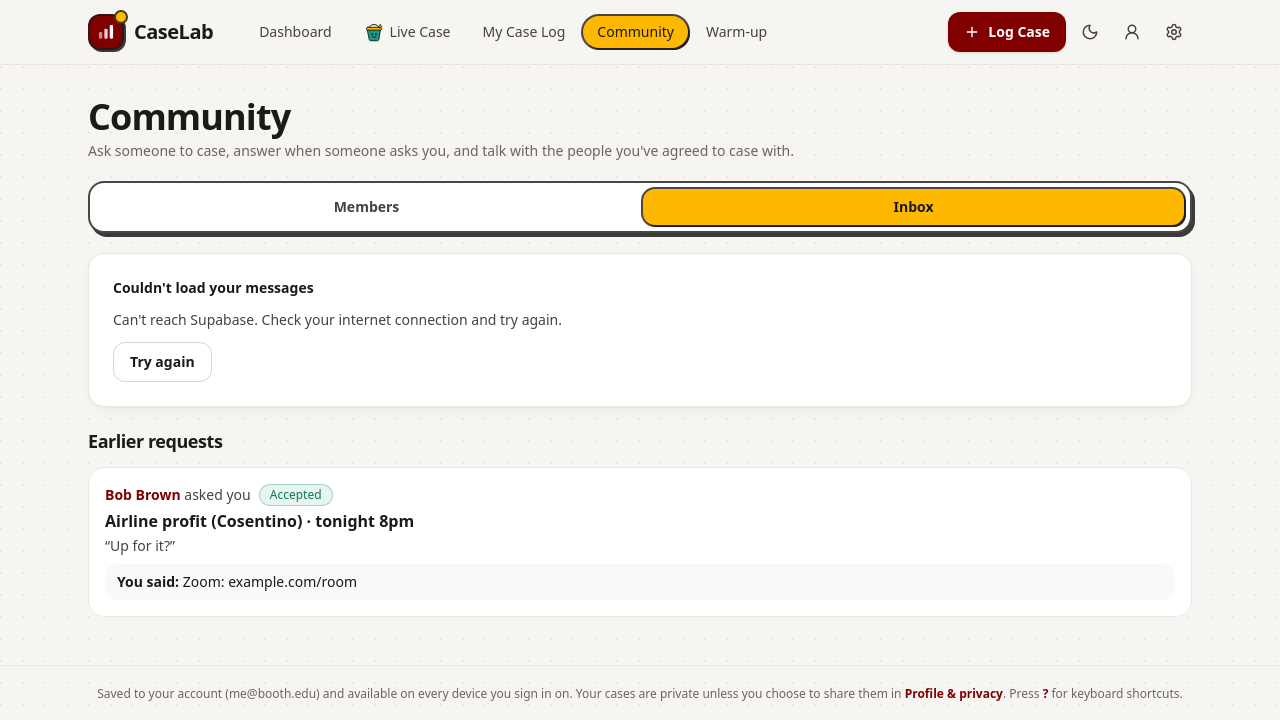
Test case: the list › shows an error with Retry when it cannot load, and keeps the list when a later refresh fails
This screenshot has width=1280, height=720.
Expected: the heading "Community" is shown, [88, 92, 290, 141]
Expected: the message shows "Couldn't load your messages", [113, 278, 314, 297]
Click the button "Try again" at (162, 362), box [113, 342, 212, 382]
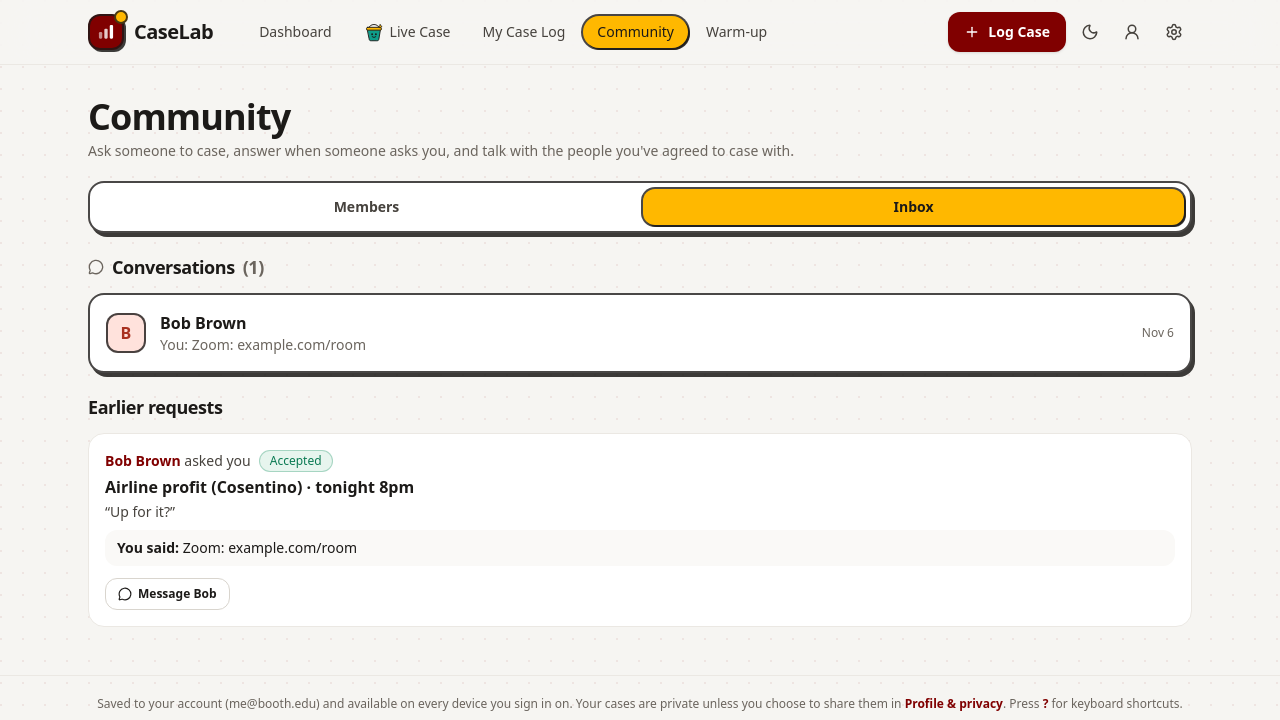
Result: the link "B Bob Brown You: Zoom: example.com/room Nov 6" is shown at [88, 293, 1192, 373]
Result: the message is gone
